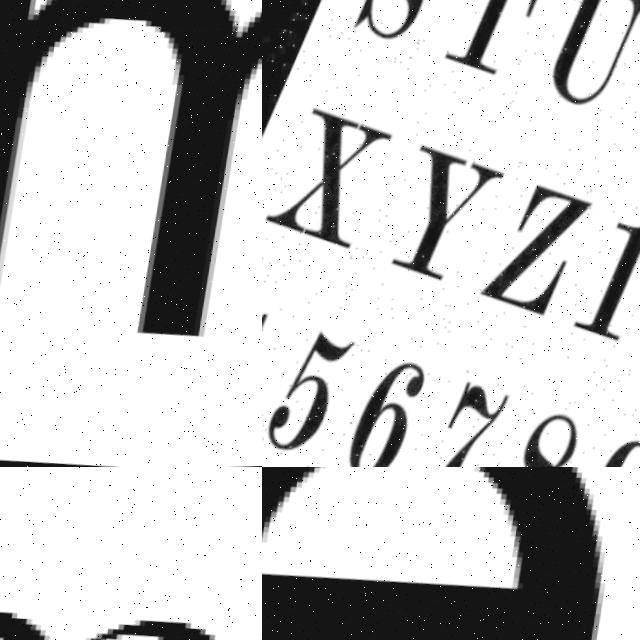1: (567, 191, 640, 361)
4: (262, 288, 298, 467)
5: (262, 308, 378, 467)
6: (330, 342, 448, 467)
7: (406, 351, 532, 467)
8: (492, 386, 614, 467)
9: (565, 405, 640, 467)
E: (262, 467, 607, 640)
M: (0, 0, 262, 369), (0, 573, 262, 640)
